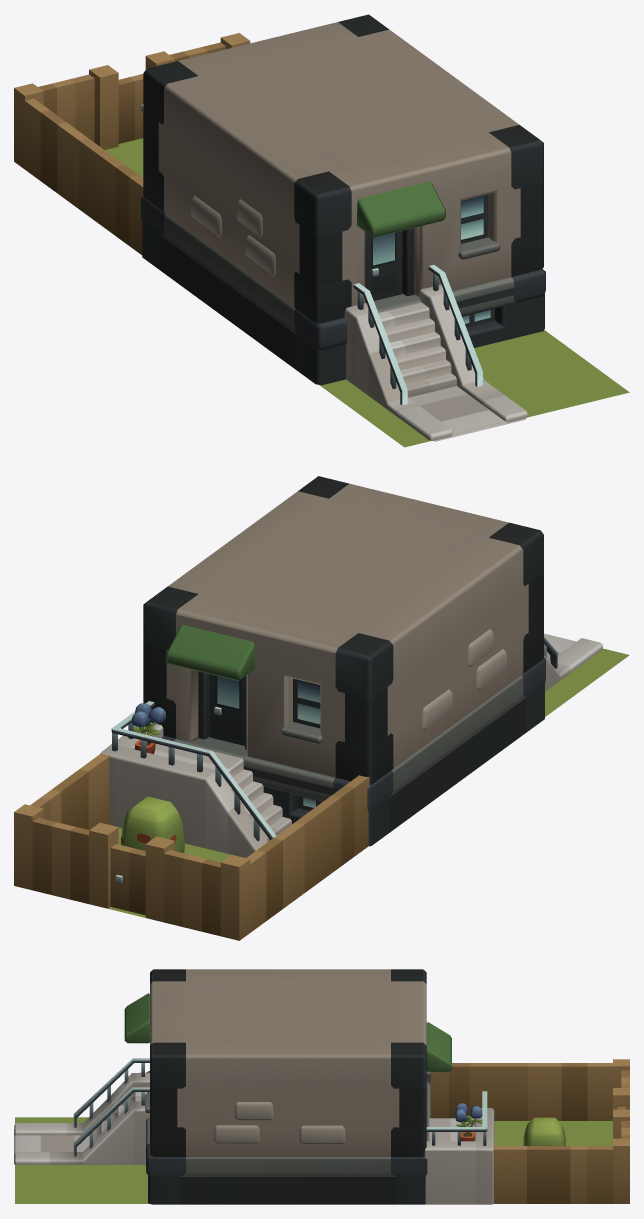
Rendered from appartment_type1_x3_ground_cream.fbx.
3 renders of one model, top to bottom at view 1: azimuth 30°, elevation 25°; view 2: azimuth 150°, elevation 25°; view 3: azimuth 270°, elevation 25°, orthographic. The views are drawn at different scales.
Visible parts, largest first — view 1: appartment_type1_x3_ground_cream, door_front_appartment_type1_x3_ground, door_garden_appartment_type1_x3_ground; view 2: appartment_type1_x3_ground_cream, door_back_appartment_type1_x3_ground, door_garden_appartment_type1_x3_ground; view 3: appartment_type1_x3_ground_cream.
Part boxes in pixels (box(x1,y1,x2,y2)): appartment_type1_x3_ground_cream: box(14, 14, 629, 447); door_front_appartment_type1_x3_ground: box(367, 231, 402, 300); door_garden_appartment_type1_x3_ground: box(118, 74, 143, 143); appartment_type1_x3_ground_cream: box(14, 476, 629, 940); door_back_appartment_type1_x3_ground: box(209, 674, 244, 745); door_garden_appartment_type1_x3_ground: box(110, 844, 145, 915); appartment_type1_x3_ground_cream: box(14, 969, 629, 1204).
Size of the model in its own units: 628 by 487 by 1803.
